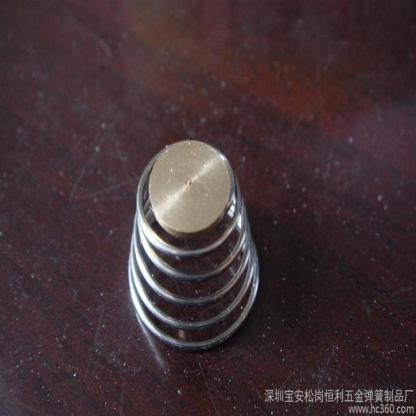FOD: (124, 136, 263, 355)
